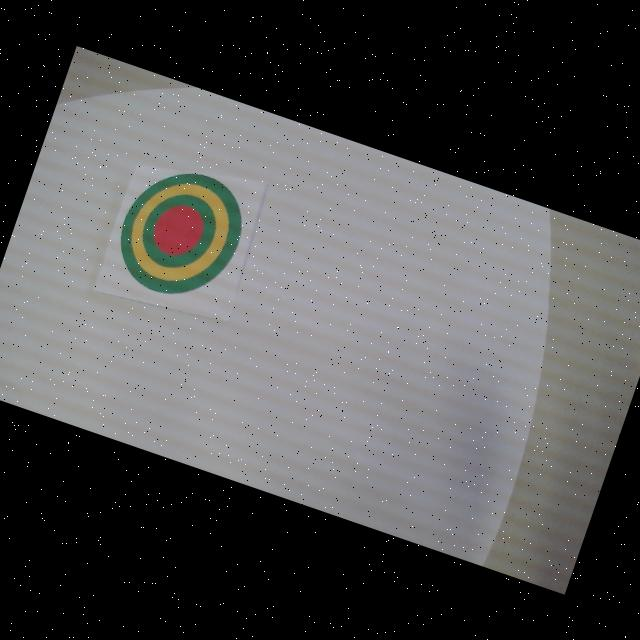COGNITIVE: (106, 154, 256, 312)
